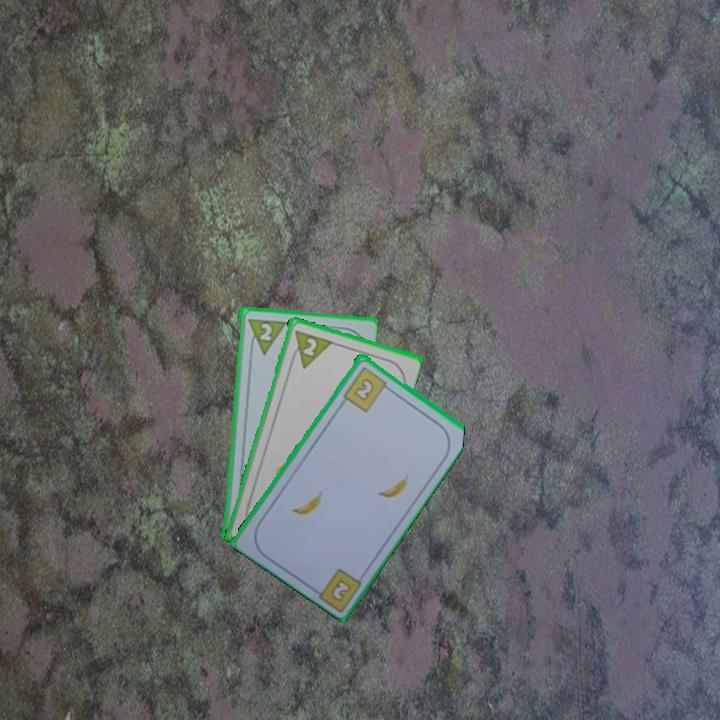2b: (340, 363, 393, 414), (329, 578, 352, 602)
2p: (286, 326, 333, 371), (255, 319, 275, 343)
